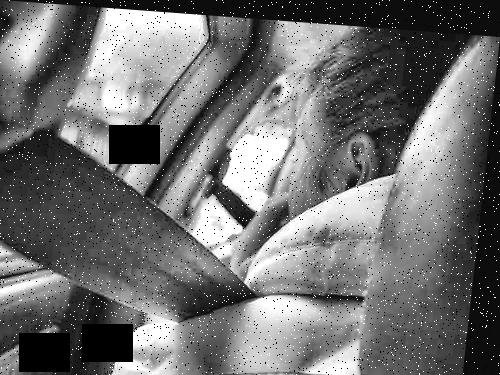seatbelt: (0, 101, 320, 348), (186, 171, 275, 240)
